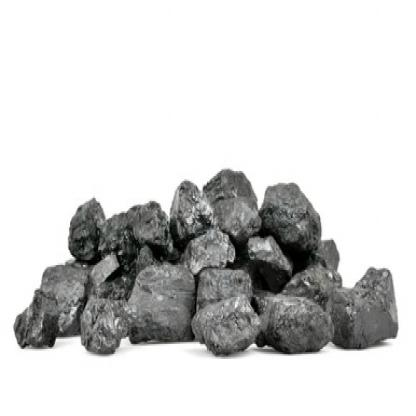Sedimentary_coal: (338, 252, 408, 352), (256, 178, 332, 268), (188, 295, 258, 361), (163, 171, 220, 243), (268, 292, 332, 349), (9, 294, 62, 350), (76, 180, 113, 258), (80, 298, 121, 344)
